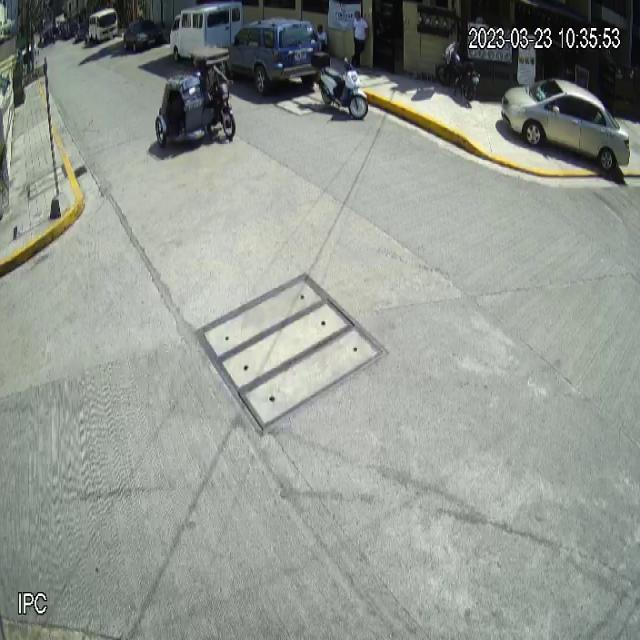Car: (500, 76, 631, 175), (216, 16, 321, 85)
Motorcycle: (310, 49, 370, 121)
Tricycle: (154, 46, 236, 148)
Van: (169, 2, 245, 62)
